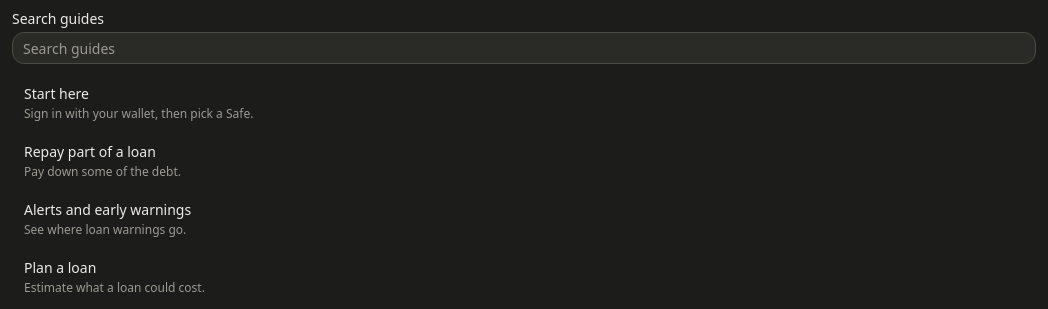
Test case: GuideTopicList › shows one clear message when nothing matches
Step 1. Type "zeppelin" into the search field labelled "Search guides" → (524, 48), box [12,32,1036,64]
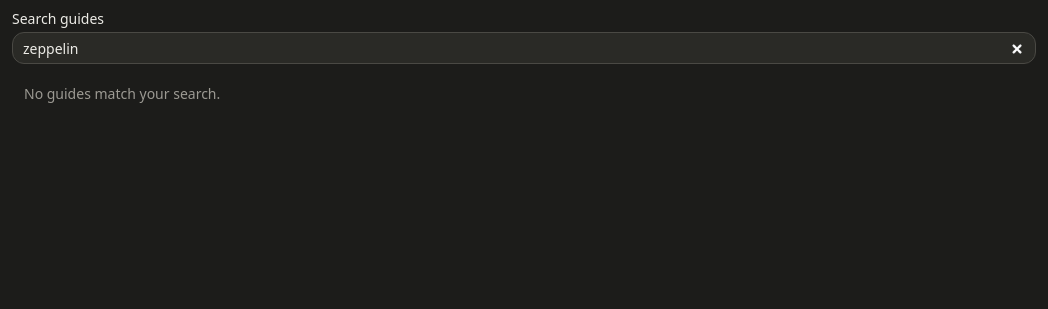
Expected: no buttons are shown
Expected: the text "No guides match your search." is shown, [24,84,220,103]
